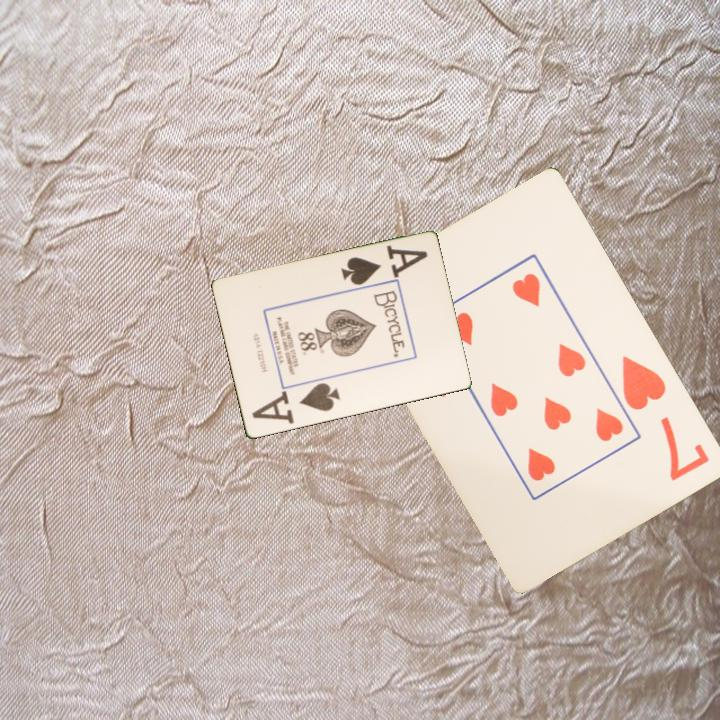7h: (618, 352, 713, 484)
As: (337, 242, 430, 288), (257, 379, 343, 419)
